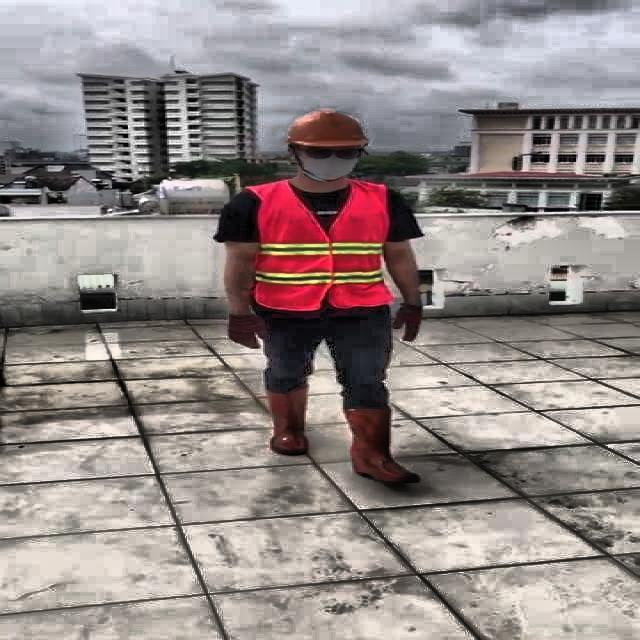safety_helmet: (278, 108, 377, 154)
safety_jacket: (252, 182, 393, 310)
